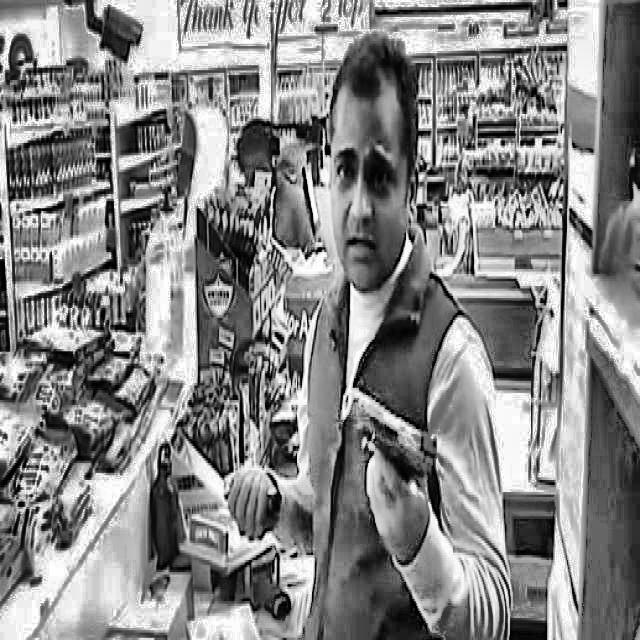pistol: (336, 380, 452, 498)
